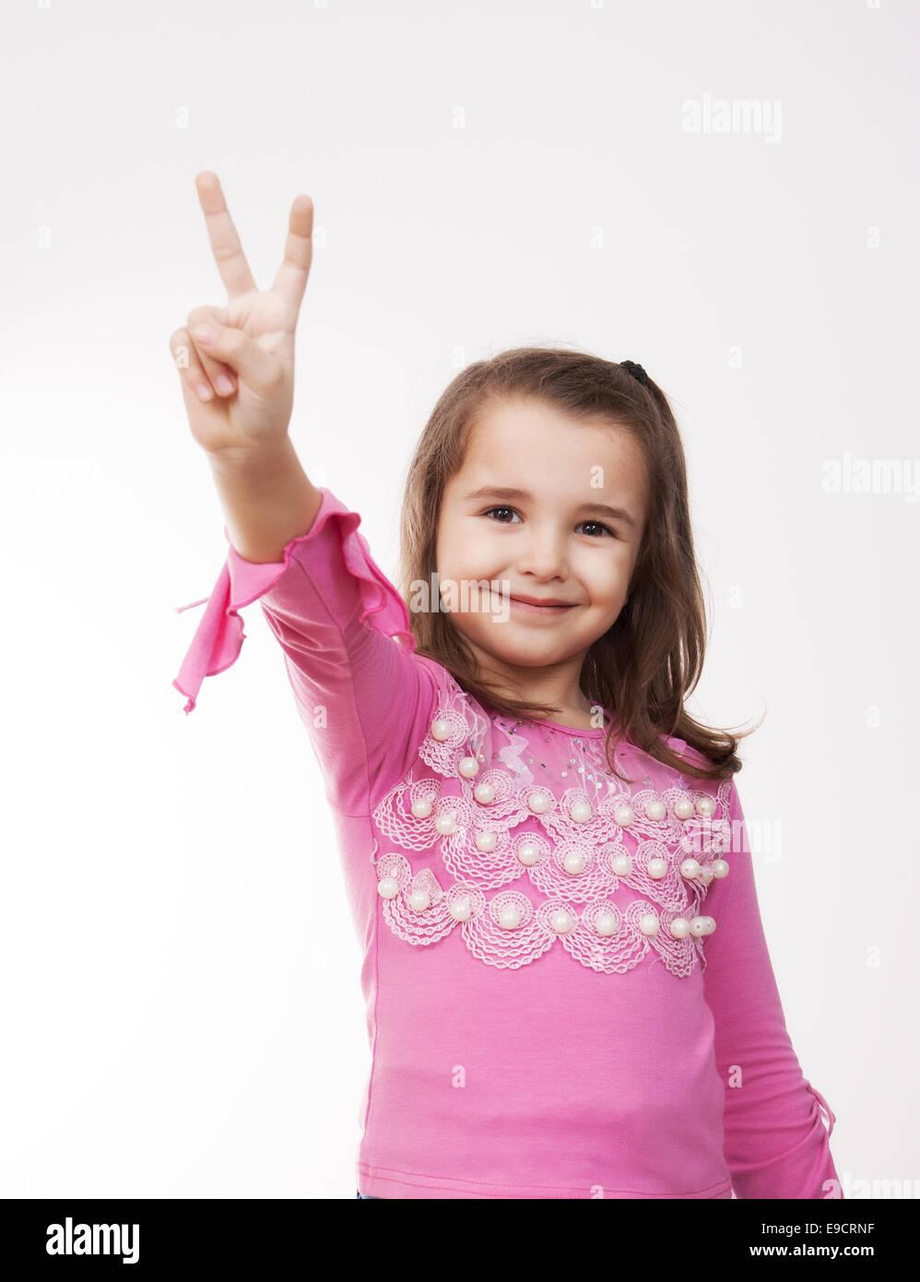peace_sign: (155, 144, 330, 476)
